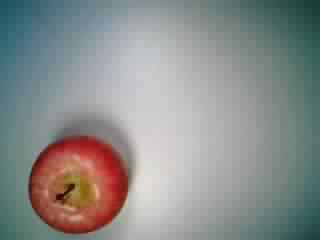apple: (25, 135, 129, 236)
